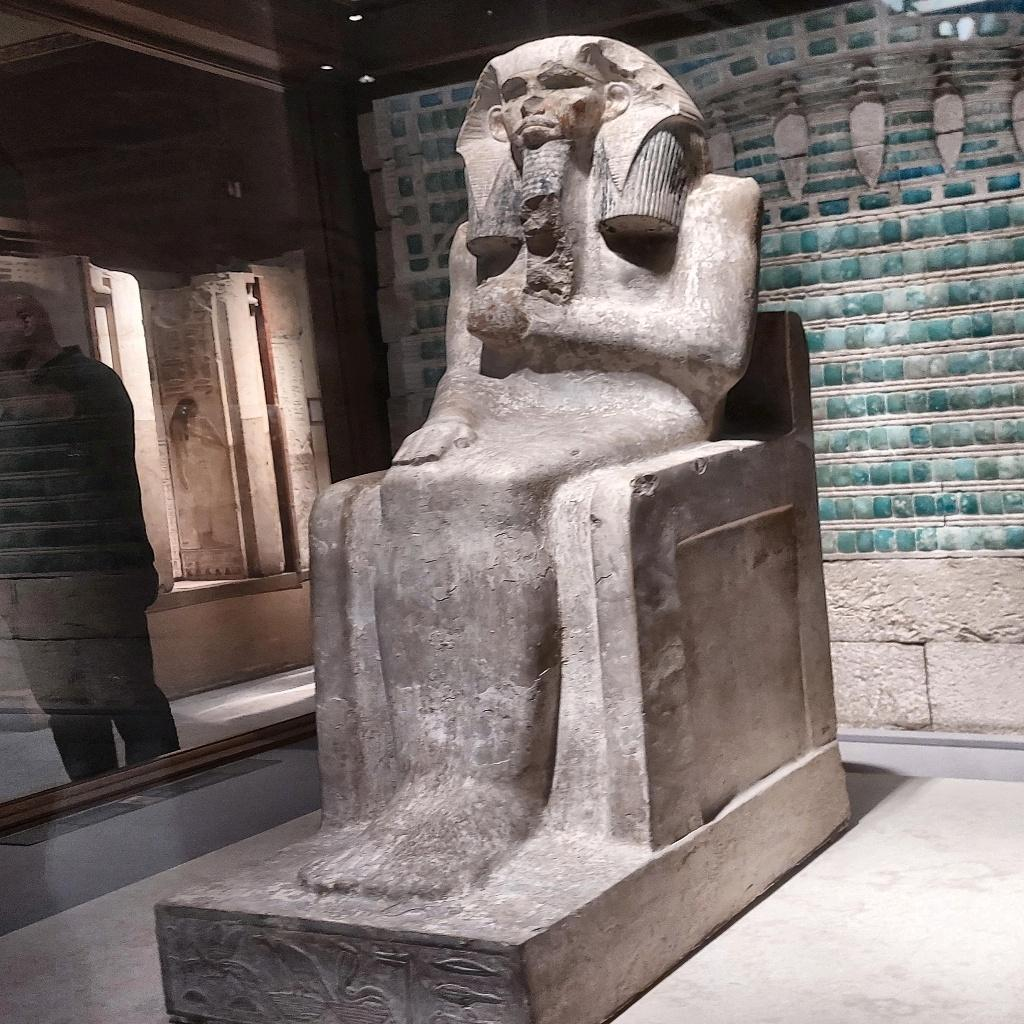Seated Statue of Djoser: (282, 30, 794, 906)
